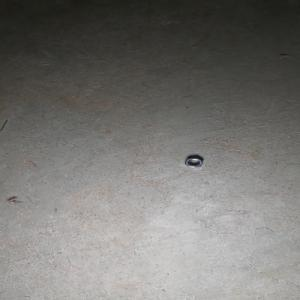Nut: (184, 156, 203, 168)
